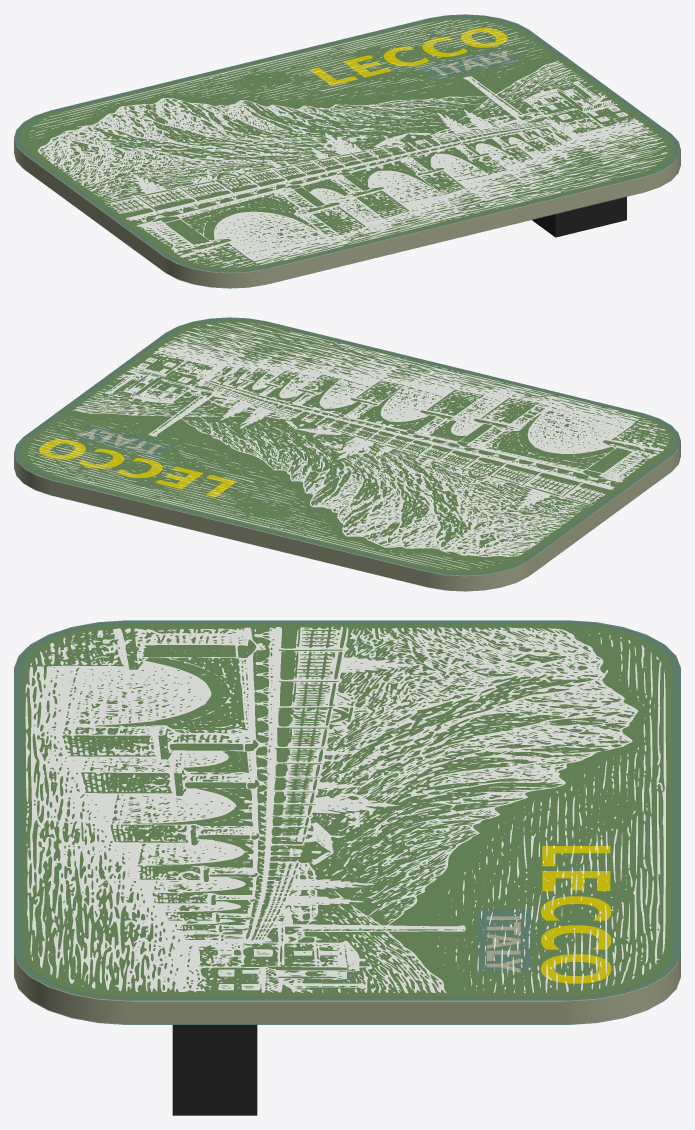
The model's file is lecco-postcard-sao.glb.
3 renders of one model, top to bottom at view 1: azimuth 30°, elevation 25°; view 2: azimuth 150°, elevation 25°; view 3: azimuth 270°, elevation 25°, orthographic. The views are drawn at different scales.
Visible parts, largest first — view 1: =>[0:1:1:9], =>[0:1:1:3]; view 2: =>[0:1:1:9], =>[0:1:1:3]; view 3: =>[0:1:1:9], =>[0:1:1:3].
Part boxes in pixels (<box>): =>[0:1:1:9]: <box>14,14,680,288</box>; =>[0:1:1:3]: <box>20,17,674,270</box>; =>[0:1:1:9]: <box>14,317,680,591</box>; =>[0:1:1:3]: <box>20,320,674,573</box>; =>[0:1:1:9]: <box>14,620,680,1024</box>; =>[0:1:1:3]: <box>23,624,671,1115</box>.
Size of the model in its own units: 0.054 by 0.00914 by 0.04.
Materials: 2 (2 with a texture image).
